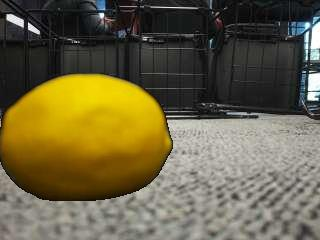lemon: (0, 76, 169, 202)
